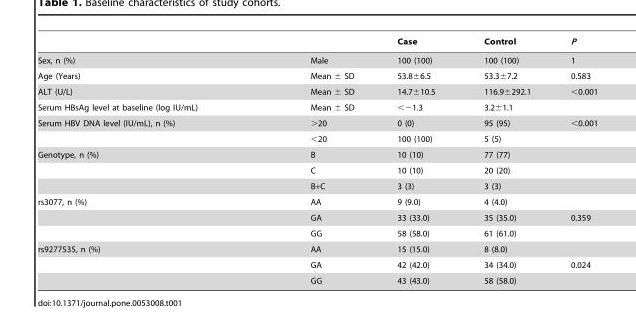table: (37, 36, 597, 284)
table column: (37, 36, 253, 284), (253, 36, 375, 284), (458, 36, 549, 284), (375, 36, 458, 284), (549, 36, 597, 284)
table column header: (37, 36, 597, 50)
table row: (37, 50, 597, 67), (37, 177, 597, 194), (37, 67, 597, 83), (37, 83, 597, 99), (37, 99, 597, 115), (37, 130, 597, 146), (37, 146, 597, 162), (37, 209, 597, 225), (37, 225, 597, 241), (37, 256, 597, 272), (37, 115, 597, 130), (37, 162, 597, 177), (37, 194, 597, 209), (37, 241, 597, 256), (37, 36, 597, 50), (37, 272, 597, 284)
table spanning cell: (37, 146, 253, 194), (37, 194, 253, 241), (37, 241, 253, 284), (37, 115, 253, 146)
